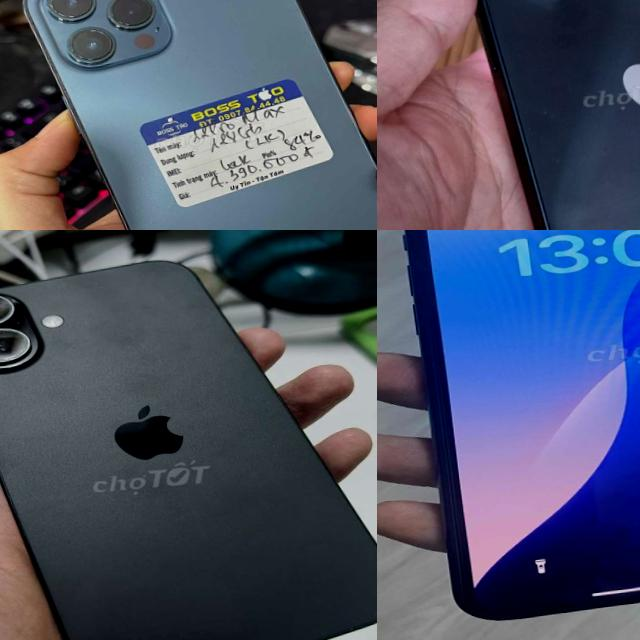gen_11: (383, 230, 640, 632)
gen_12_13: (14, 0, 377, 230), (443, 0, 640, 230)
gen_16: (0, 261, 377, 640)
